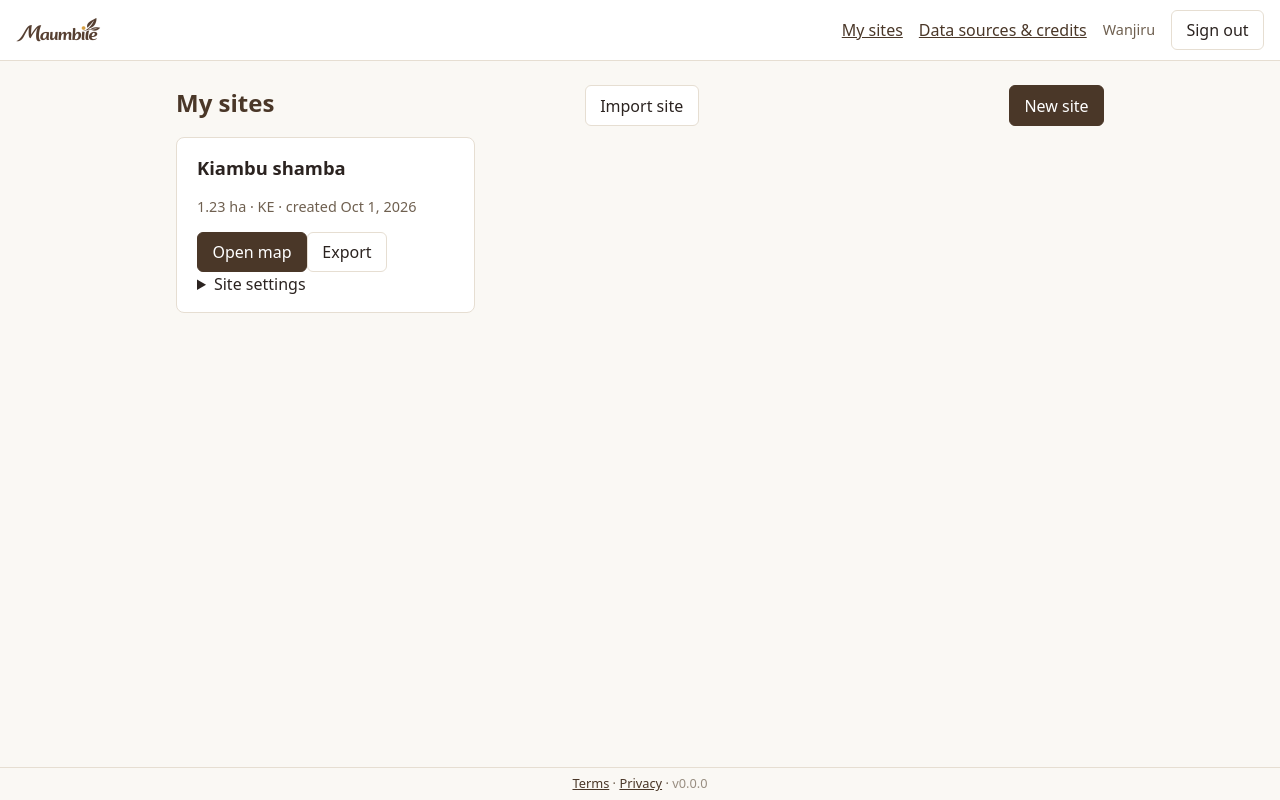
Scenario: SitesDashboardPage › renames a site through its settings
This screenshot has width=1280, height=800.
Click the heading "Site settings" at [260, 284], box [214,273,306,295]
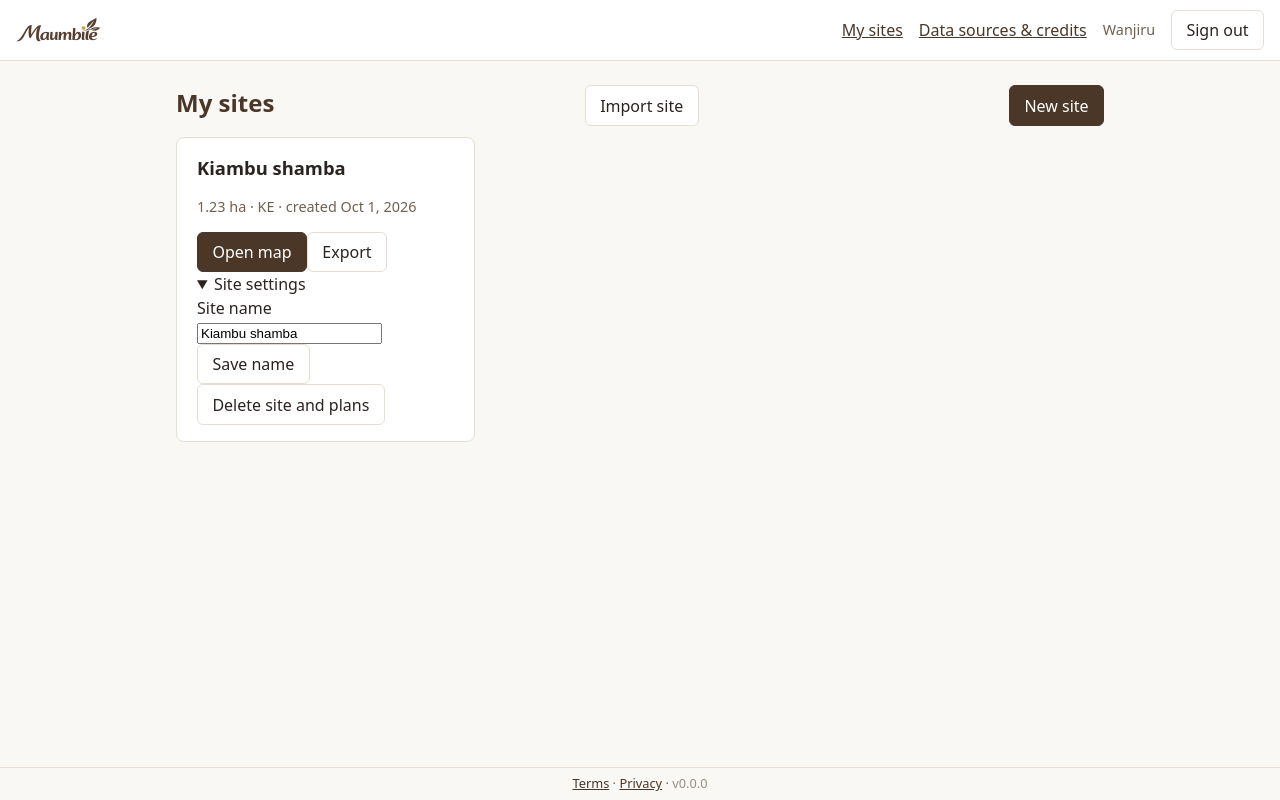
Replace the text in the field labelled "Site name" with "New garden name" at [290, 333], box [197,323,382,344]
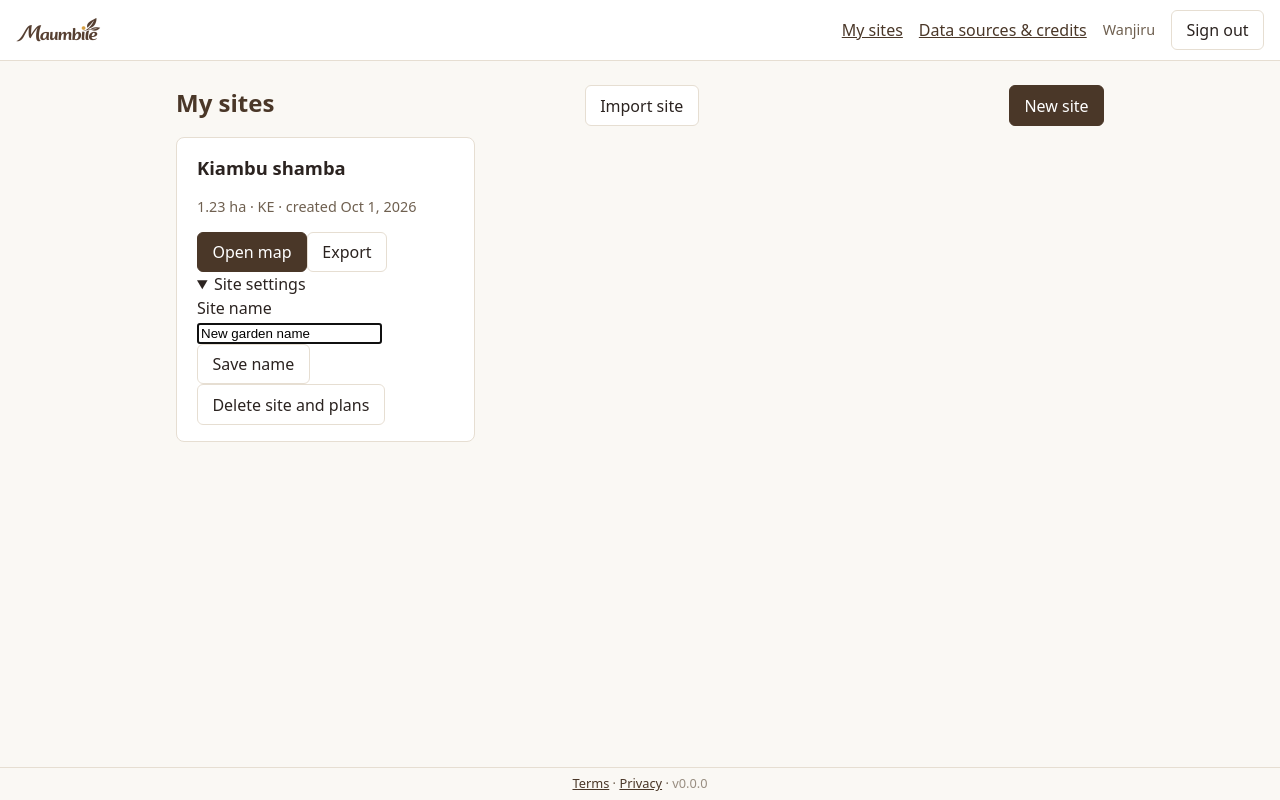
Click the button "Save name" at [253, 364], box [197,344,310,384]
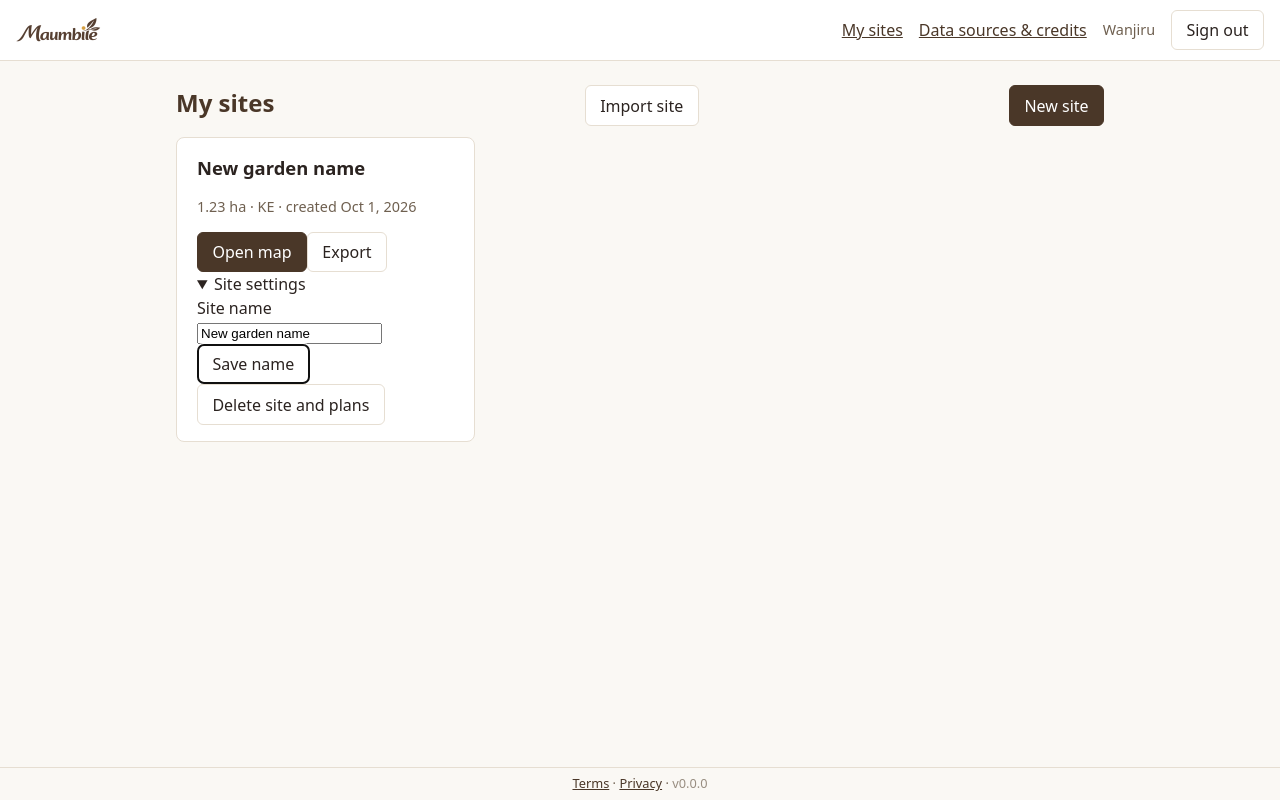
Expected: the heading "New garden name" is shown, [197,155,365,180]
